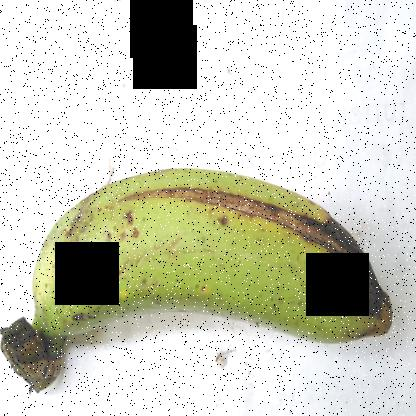unripe: (27, 128, 317, 368)
